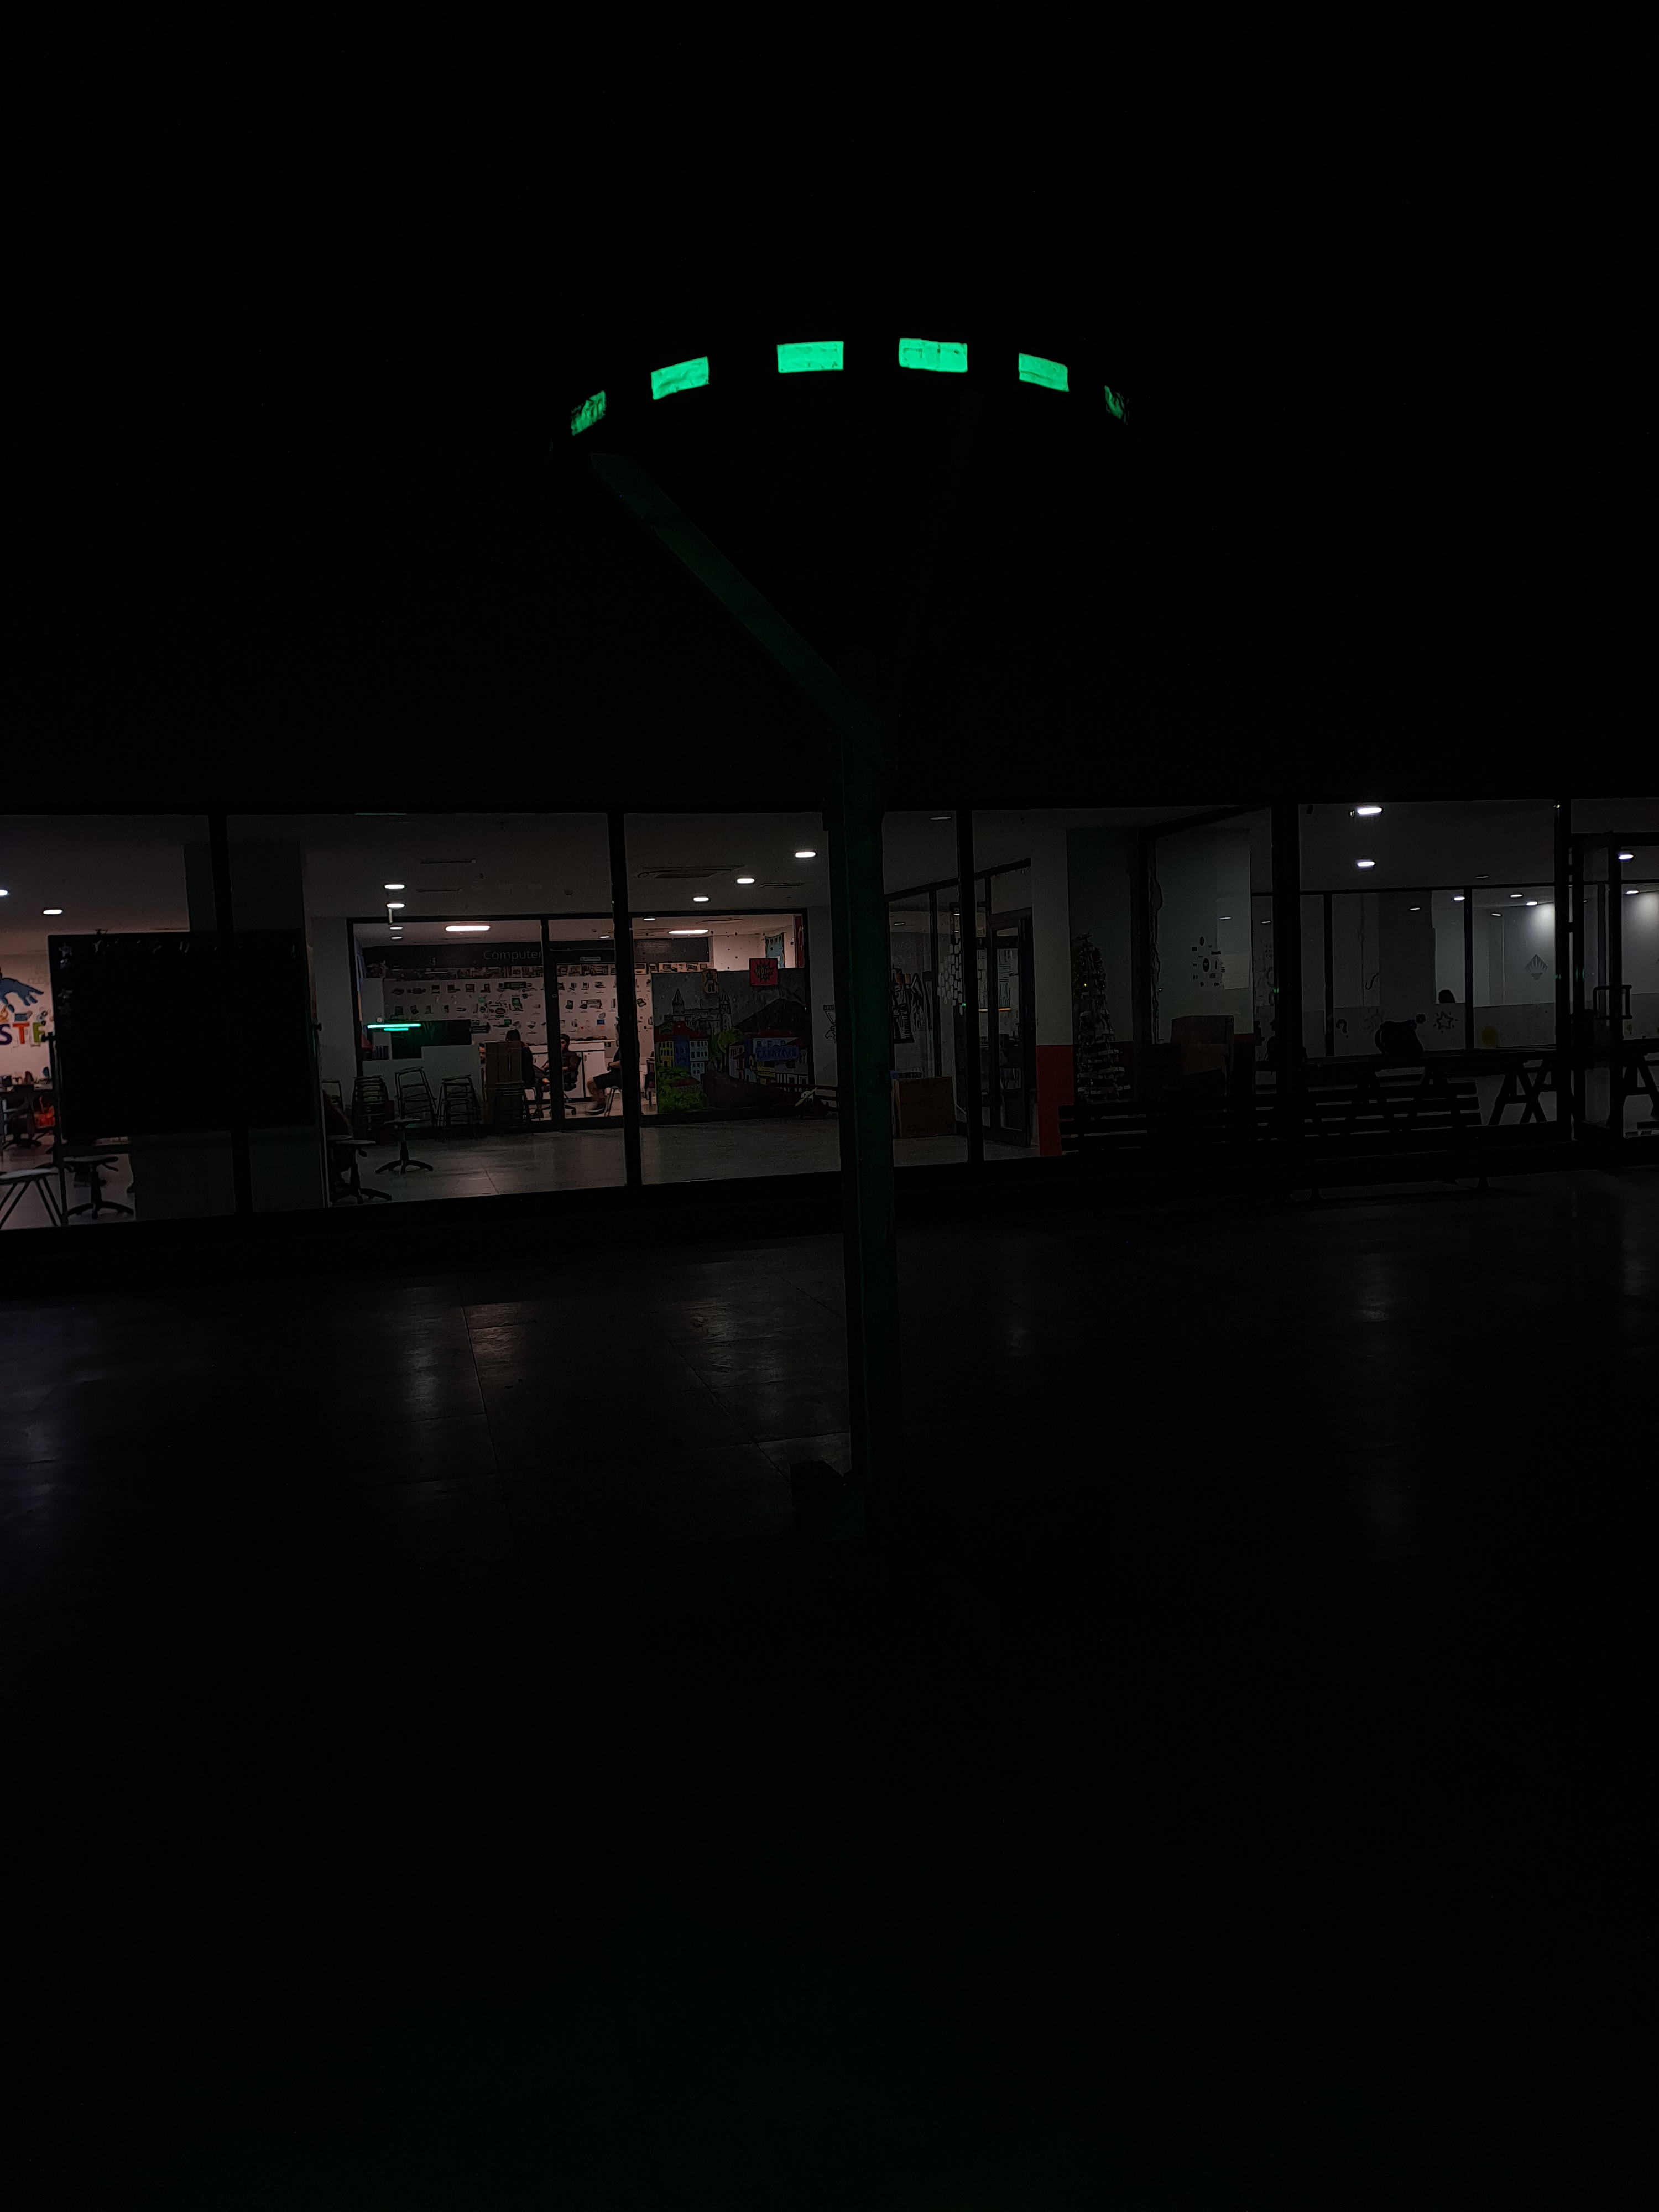hoop: (561, 331, 1133, 435)
